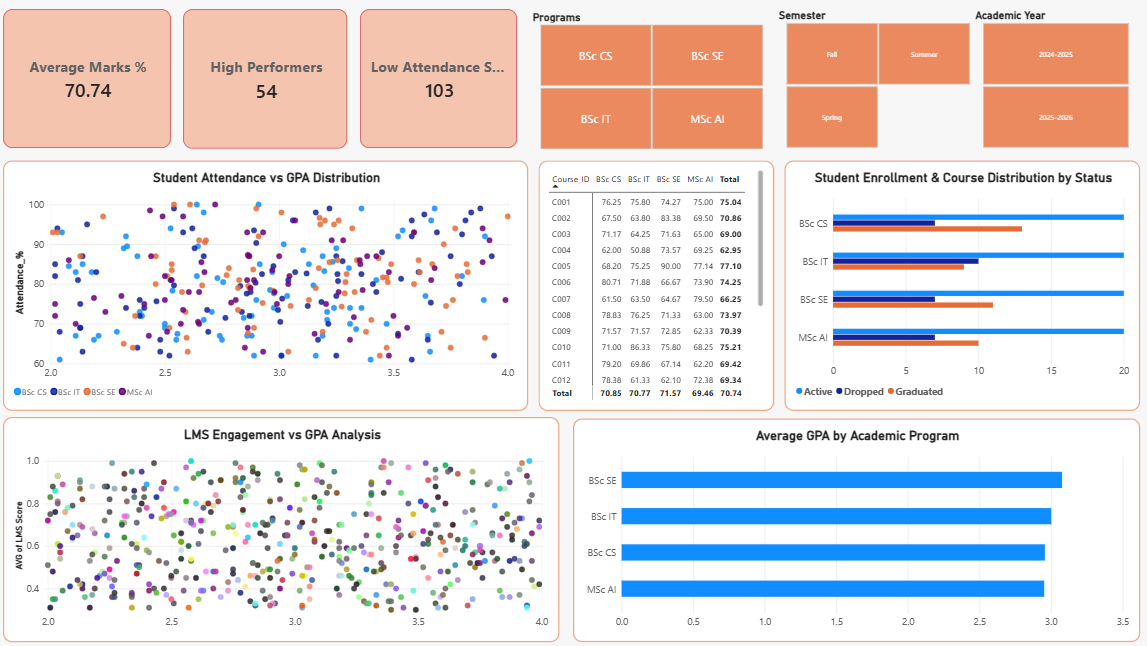

This screenshot's page, from the dashboard's own definition file:
{"tool":"powerbi","page":{"name":"Student Performance & Engagement","canvas":[1920,1080],"ordinal":1},"visuals":[{"type":"clusteredBarChart","title":"Average GPA by Academic Program","fields":{"Category":["Student_Info.Program"],"Y":["Overview.Average GPA"]},"box":[960,697.5,945,372.5],"z":0},{"type":"scatterChart","title":"Student Attendance vs GPA Distribution","fields":{"Category":["Overview.Student_ID"],"Series":["Student_Info.Program"],"X":["Avg(Overview.GPA)"],"Y":["Avg(Overview.Attendance_%)"]},"box":[10,267.5,875,417.5],"z":1000},{"type":"scatterChart","title":"LMS Engagement vs GPA Analysis","fields":{"Category":["Dropout_Predict.Student_ID"],"Series":["Dropout_Predict.Student_ID"],"X":["Avg(Dropout_Predict.GPA)"],"Y":["Avg(Dropout_Predict.LMS_Engagement_Score)"]},"box":[10,696,927.5,375],"z":2000},{"type":"slicer","fields":{"Values":["Student_Info.Program"]},"box":[885,17.5,410,232.5],"z":3000},{"type":"slicer","fields":{"Values":["Year.Semester"]},"box":[1295,15,345,232.5],"z":4000},{"type":"slicer","fields":{"Values":["Year.Academic Year"]},"box":[1622.5,15,282.5,232.5],"z":5000},{"type":"cardVisual","fields":{"Data":["Overview.Average Marks %"]},"box":[10,15,280,232.5],"z":6000},{"type":"cardVisual","fields":{"Data":["Overview.High Performers"]},"box":[310,15,274.4,233.8],"z":7000},{"type":"cardVisual","fields":{"Data":["Overview.Low Attendance Students"]},"box":[605,15,262.5,232.5],"z":8000},{"type":"pivotTable","fields":{"Columns":["Student_Info.Program"],"Rows":["Overview.Course_ID"],"Values":["Overview.Average Marks %"]},"box":[902.5,267.5,392.5,417.5],"z":9000},{"type":"clusteredBarChart","title":"Student Enrollment & Course Distribution by Status","fields":{"Category":["Student_Info.Program"],"Series":["Student_Info.Status"],"Y":["Count(Overview.Course_ID)"]},"box":[1312.5,267.5,592.5,417.5],"z":10000}]}

Visuals, with their boxes in screenshot pixels (x1, y1, x2, y2), scaled from the page's 1920x1080 canvas onto the 1147x646 screenshot:
"Average GPA by Academic Program" clusteredBarChart: crop(574, 417, 1138, 640)
"Student Attendance vs GPA Distribution" scatterChart: crop(6, 160, 529, 410)
"LMS Engagement vs GPA Analysis" scatterChart: crop(6, 416, 560, 641)
slicer - Student_Info.Program: crop(529, 10, 774, 150)
slicer - Year.Semester: crop(774, 9, 980, 148)
slicer - Year.Academic Year: crop(969, 9, 1138, 148)
cardVisual - Overview.Average Marks %: crop(6, 9, 173, 148)
cardVisual - Overview.High Performers: crop(185, 9, 349, 149)
cardVisual - Overview.Low Attendance Students: crop(361, 9, 518, 148)
pivotTable - Student_Info.Program x Overview.Course_ID: crop(539, 160, 774, 410)
"Student Enrollment & Course Distribution by Status" clusteredBarChart: crop(784, 160, 1138, 410)
